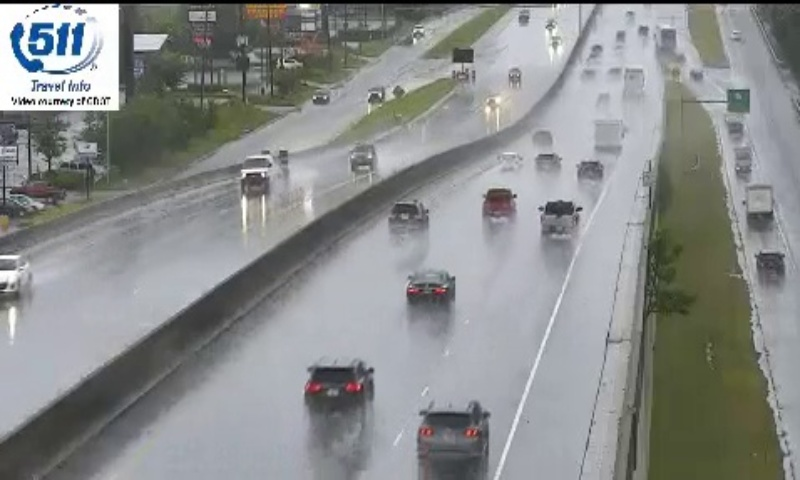car: (418, 400, 490, 462), (306, 358, 371, 415), (406, 272, 455, 308), (389, 201, 428, 236), (540, 201, 575, 234), (482, 188, 515, 219)
